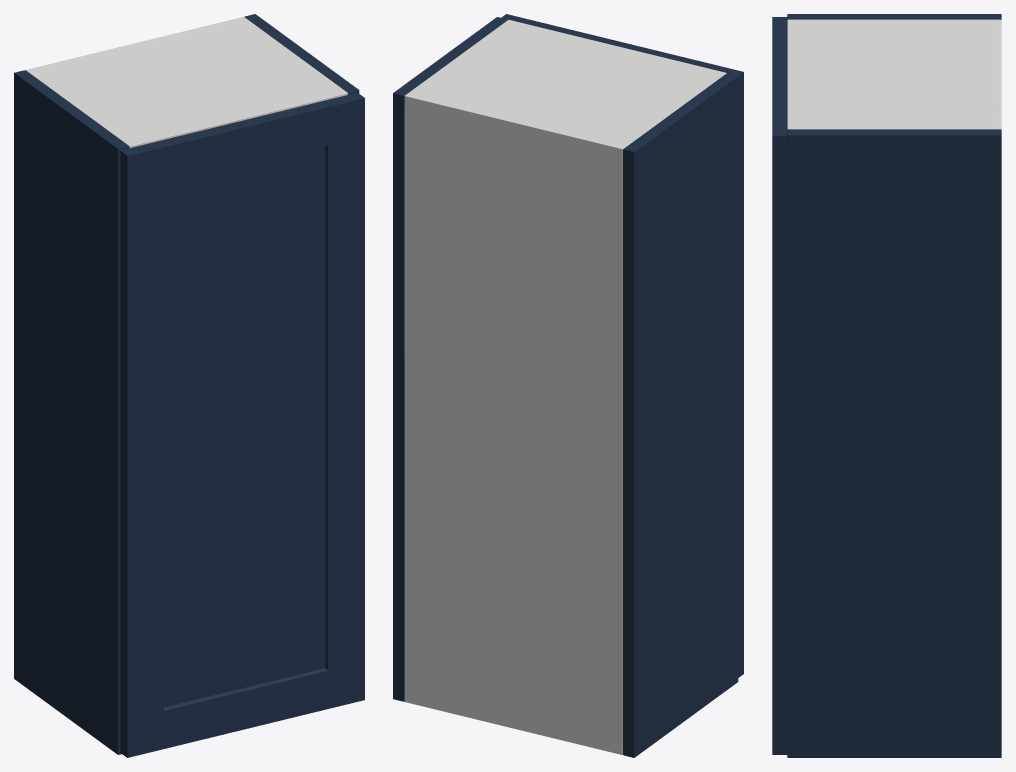
Rendered from oppein-pb-bss-w1536.glb.
The picture shows the model from 3 angles, left to right: view 1: azimuth 30°, elevation 25°; view 2: azimuth 150°, elevation 25°; view 3: azimuth 270°, elevation 25°; orthographic projection. The views are drawn at different scales.
Visible parts, largest first — view 1: Door, Cabinet side, Cabinet top, Cabinet side.001, Cabinet back; view 2: Cabinet back, Cabinet side, Cabinet top, Cabinet side.001, Door, Cabinet bottom; view 3: Cabinet side.001, Cabinet top, Door, Cabinet side, Cabinet back.
Boxes of the visible parts, x1=… form: Door: x1=120, y1=92, x2=364, y2=757; Cabinet side: x1=14, y1=70, x2=129, y2=754; Cabinet top: x1=26, y1=19, x2=347, y2=148; Cabinet side.001: x1=244, y1=14, x2=359, y2=94; Cabinet back: x1=26, y1=17, x2=247, y2=72; Cabinet back: x1=404, y1=93, x2=626, y2=754; Cabinet side: x1=623, y1=73, x2=738, y2=757; Cabinet top: x1=405, y1=19, x2=726, y2=160; Cabinet side.001: x1=393, y1=17, x2=507, y2=701; Door: x1=501, y1=14, x2=743, y2=677; Cabinet bottom: x1=405, y1=691, x2=622, y2=755; Cabinet side.001: x1=787, y1=129, x2=1001, y2=757; Cabinet top: x1=787, y1=19, x2=1001, y2=129; Door: x1=772, y1=17, x2=787, y2=754; Cabinet side: x1=787, y1=14, x2=1001, y2=19; Cabinet back: x1=993, y1=19, x2=1001, y2=129.
Size of the model in its own units: 0.381 by 0.9144 by 0.3048.
